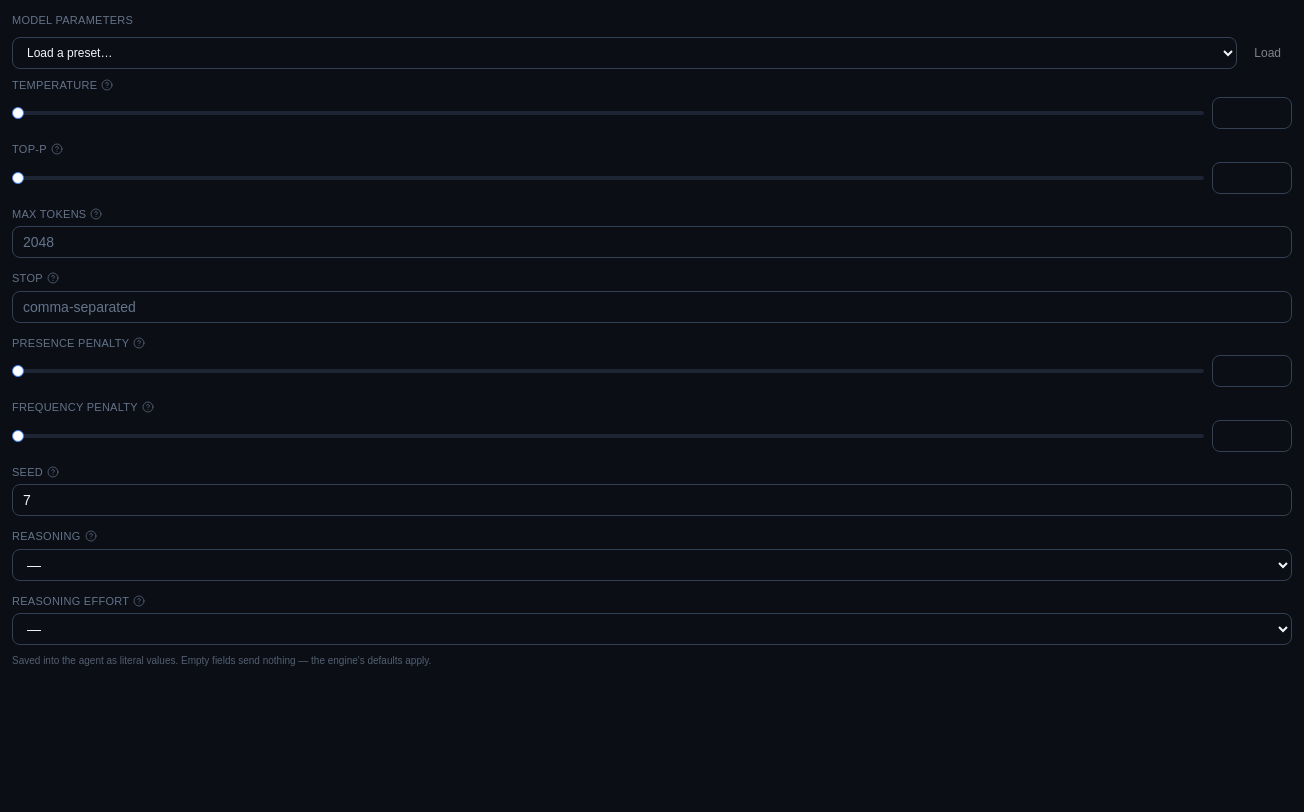
Test: ModelParamsSection › loads a saved preset as a literal copy of its values
This screenshot has width=1304, height=812.
Select "fast · local-fast" in the dropdown named "Preset" at (625,52), box [12,36,1237,68]
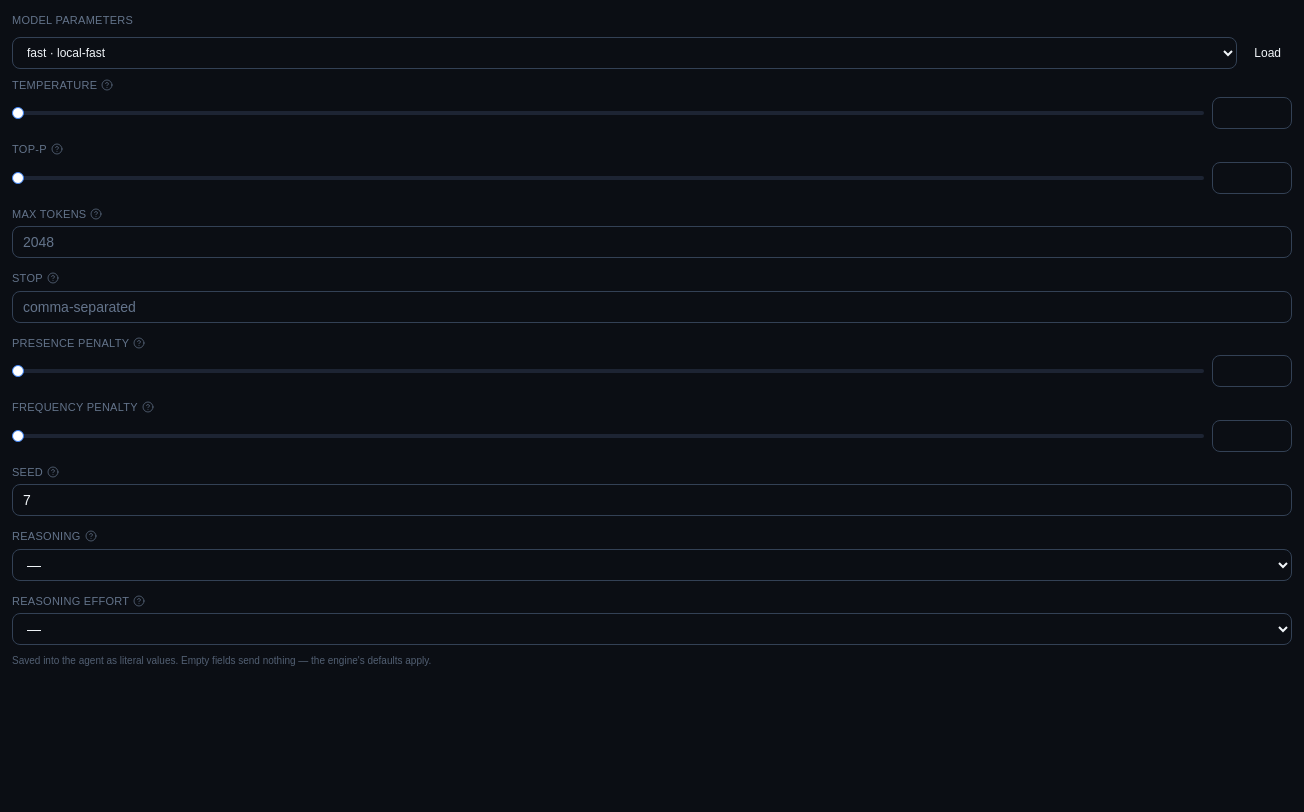
Click the button "Load" at (1268,52), box [1243,38,1292,66]
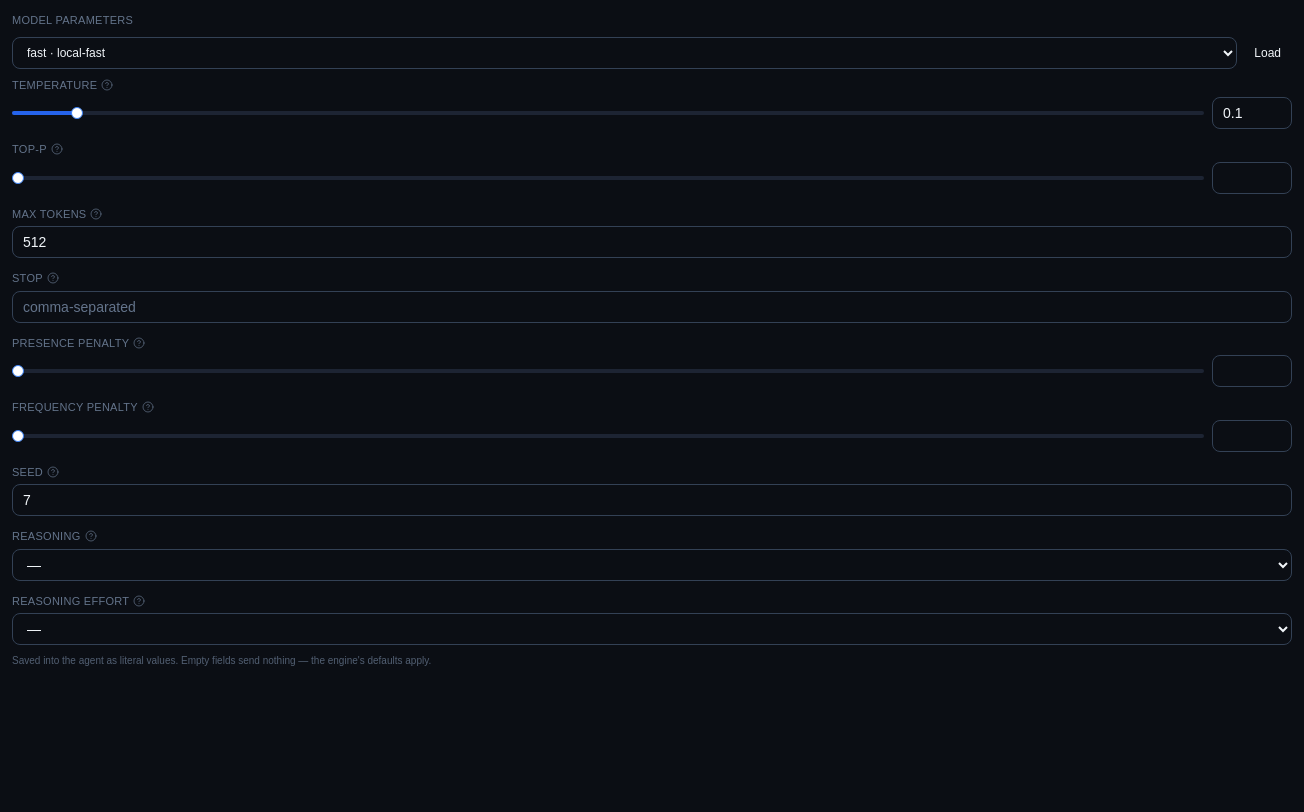
Result: the number field named "Max tokens" holds "512" at [12,226,1292,258]
